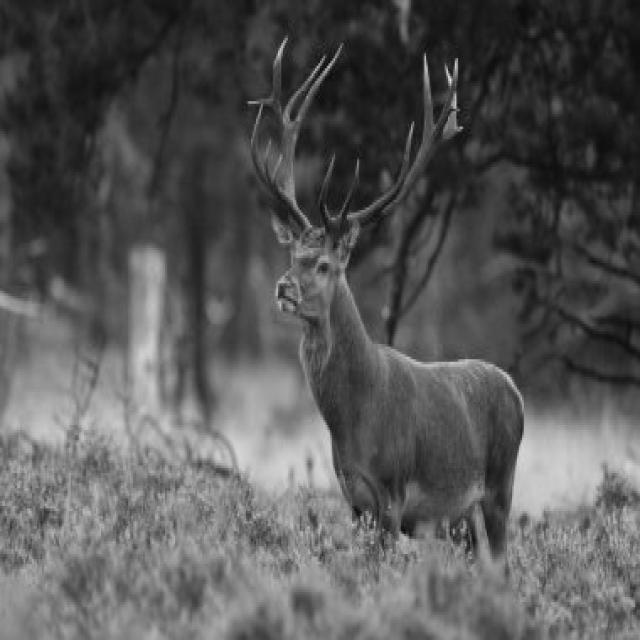Animal: (276, 227, 524, 557)
